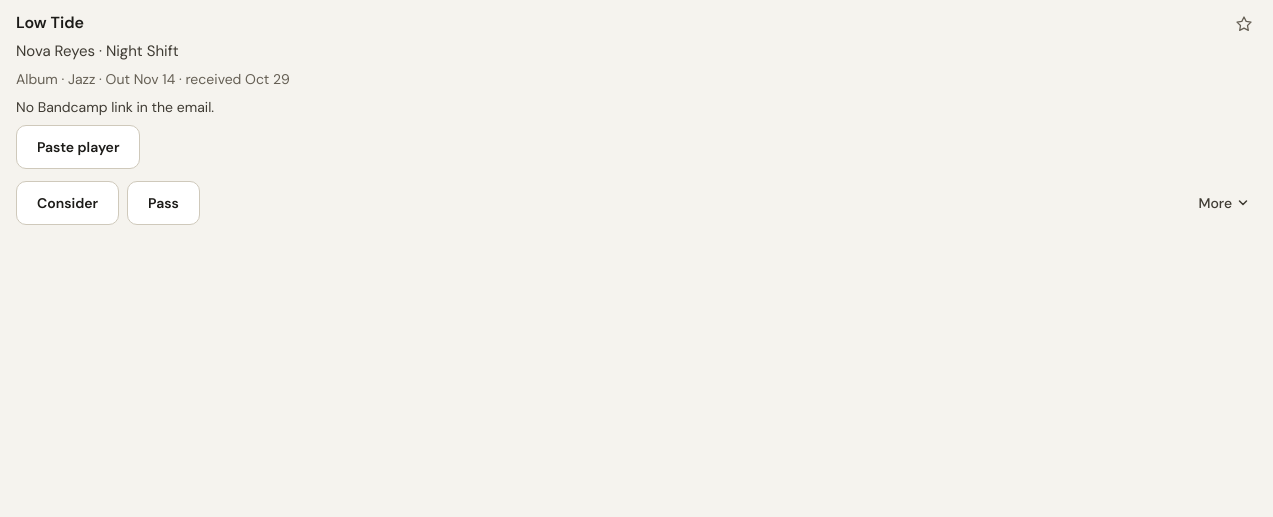
actions › Edit (in More) sends only the fields that changed
This screenshot has width=1273, height=517.
Step 1. Click the button "More" → (1223, 203), box [1190, 181, 1256, 225]
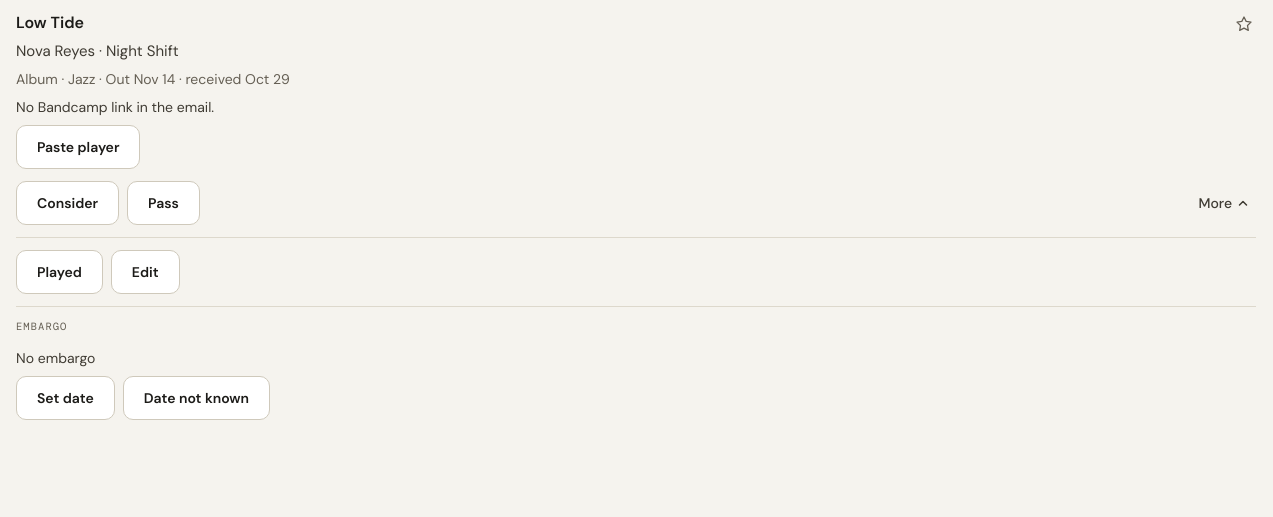
Step 2. Click the button "Edit" → (145, 272), box [111, 250, 180, 294]
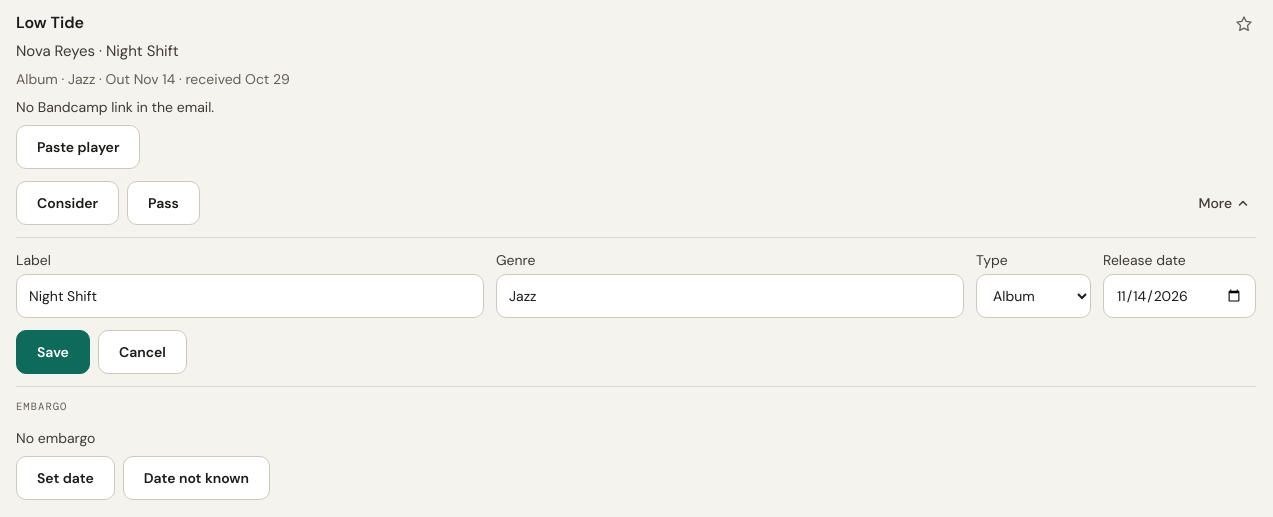
Step 3. Replace the text in the field labelled "Label" with "Day Shift" → (250, 296), box [16, 274, 484, 318]
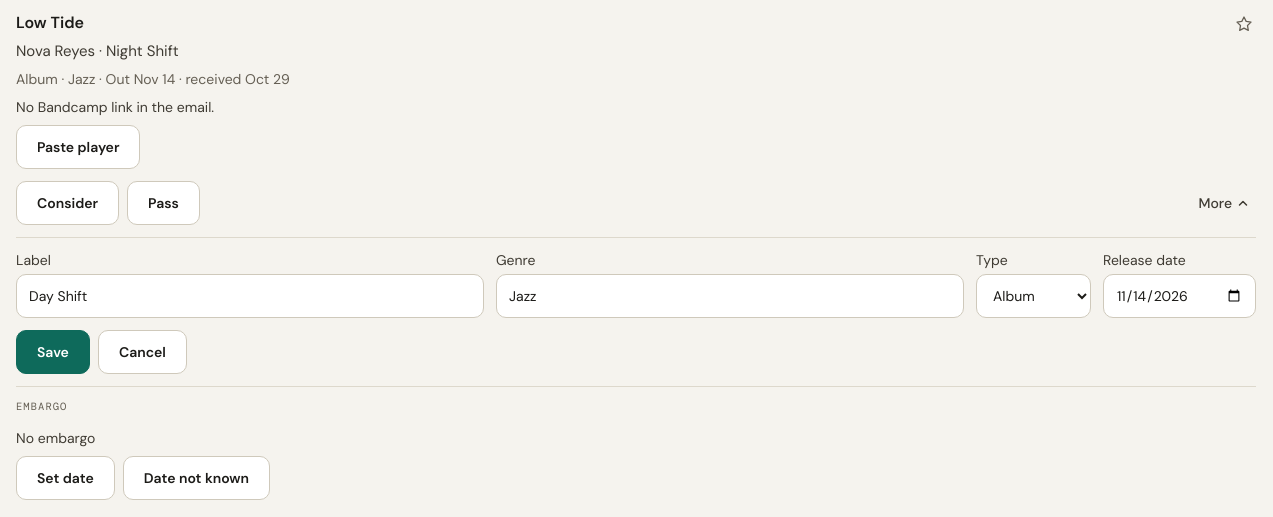
Step 4. Select "EP" in the dropdown labelled "Type" → (1034, 296), box [976, 274, 1091, 318]
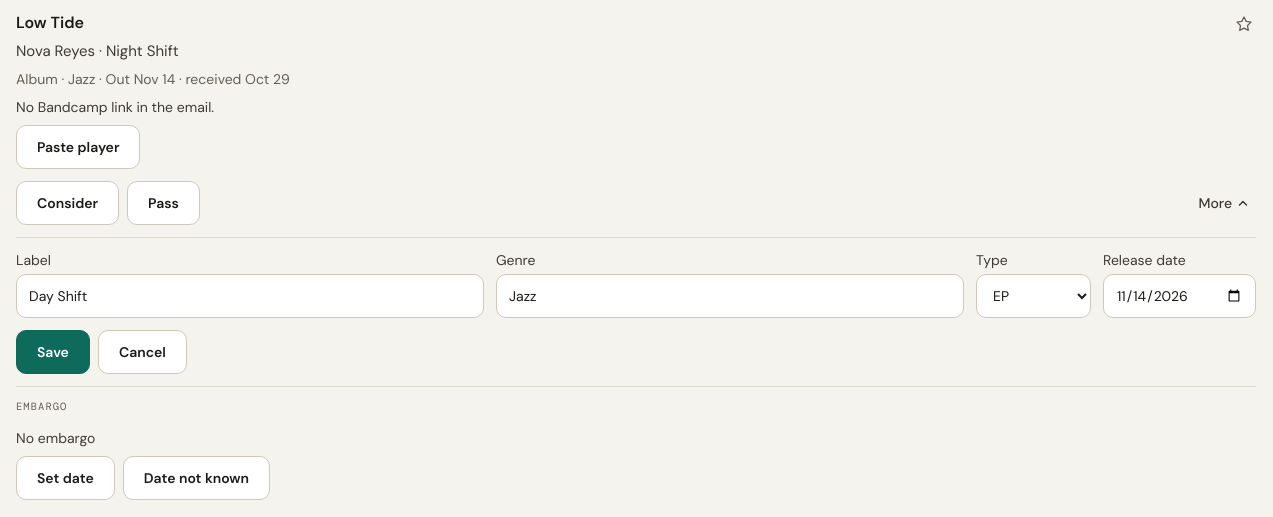
Step 5. Click the button "Save" → (53, 352), box [16, 330, 90, 374]
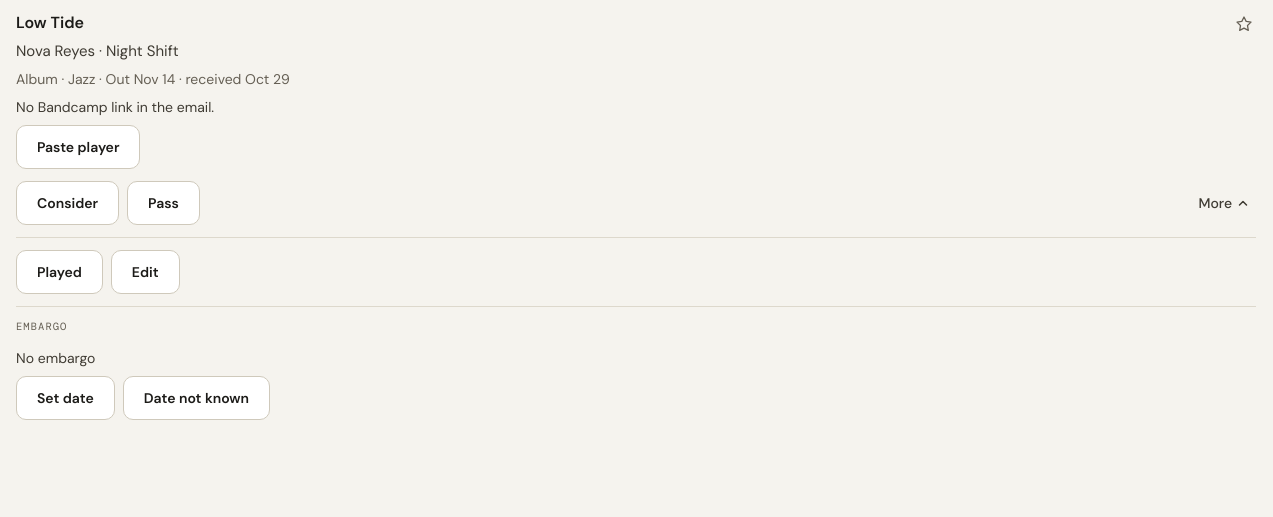
Check: the label labelled "Label" is gone
